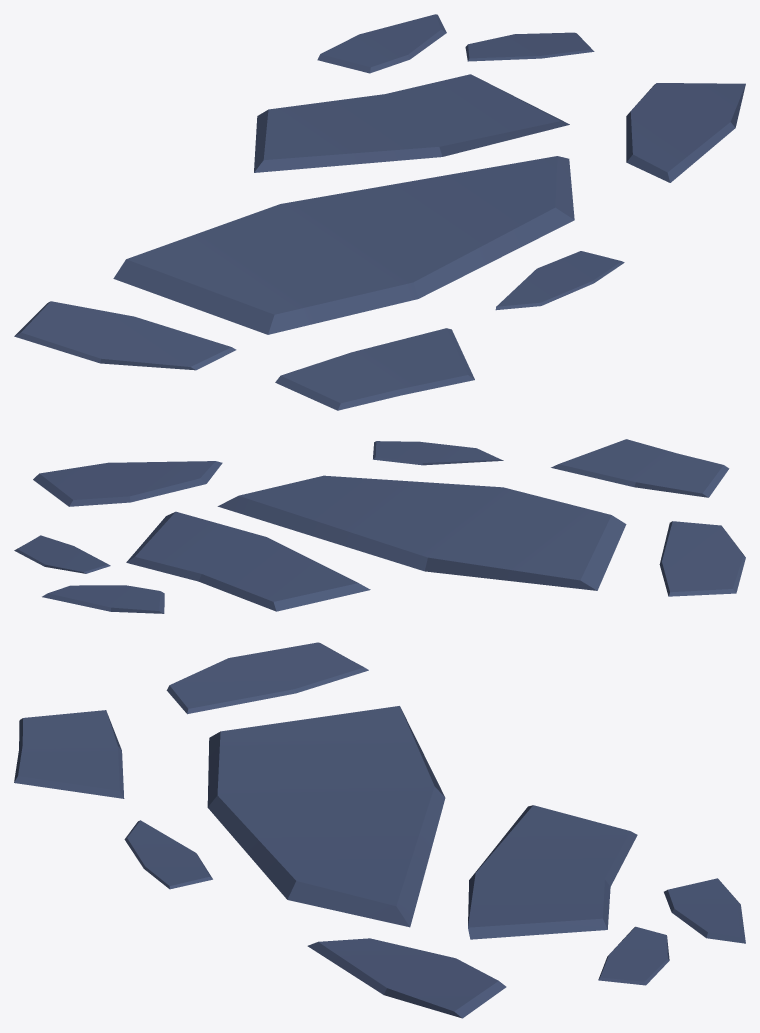
Rendered from FRock_Medium1.fbx.
3 views of the same model, one above another, from view 1: azimuth 30°, elevation 25°; view 2: azimuth 150°, elevation 25°; view 3: azimuth 270°, elevation 25° (orthographic). The views are drawn at different scales.
Visible parts, largest first — view 1: rocks_medium_2.001; view 2: rocks_medium_2.001; view 3: rocks_medium_2.001.
Boxes of the visible parts, x1=… form: rocks_medium_2.001: x1=14, y1=14, x2=745, y2=410; rocks_medium_2.001: x1=14, y1=439, x2=745, y2=613; rocks_medium_2.001: x1=14, y1=642, x2=745, y2=1018.
Size of the model in its own units: 515 by 7.94 by 424.
Materials: 1 (1 with a texture image).
